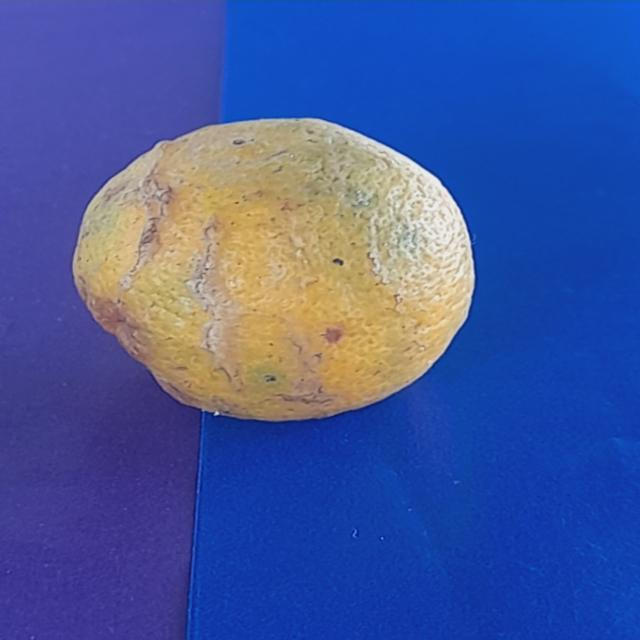thrips: (68, 126, 467, 418)
